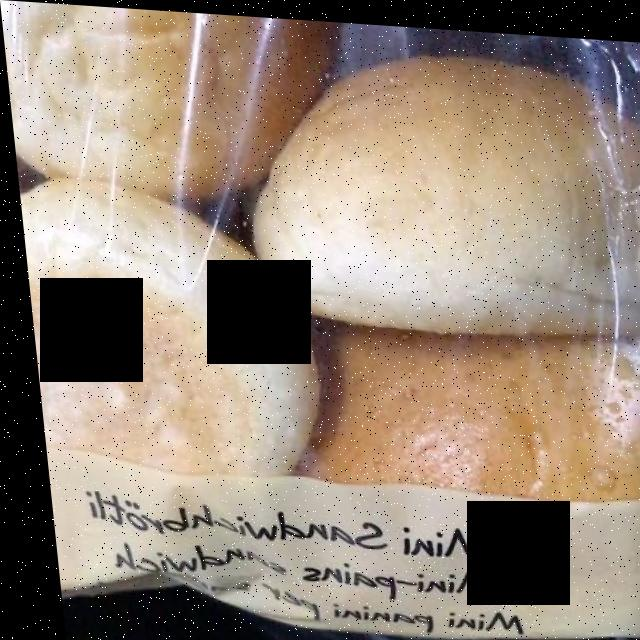bread-white: (19, 6, 640, 479), (33, 21, 640, 498)
